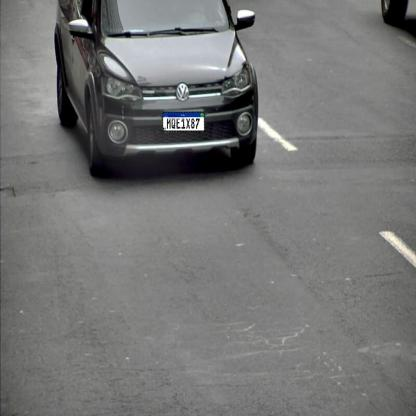PlacaM: (162, 112, 205, 132)
